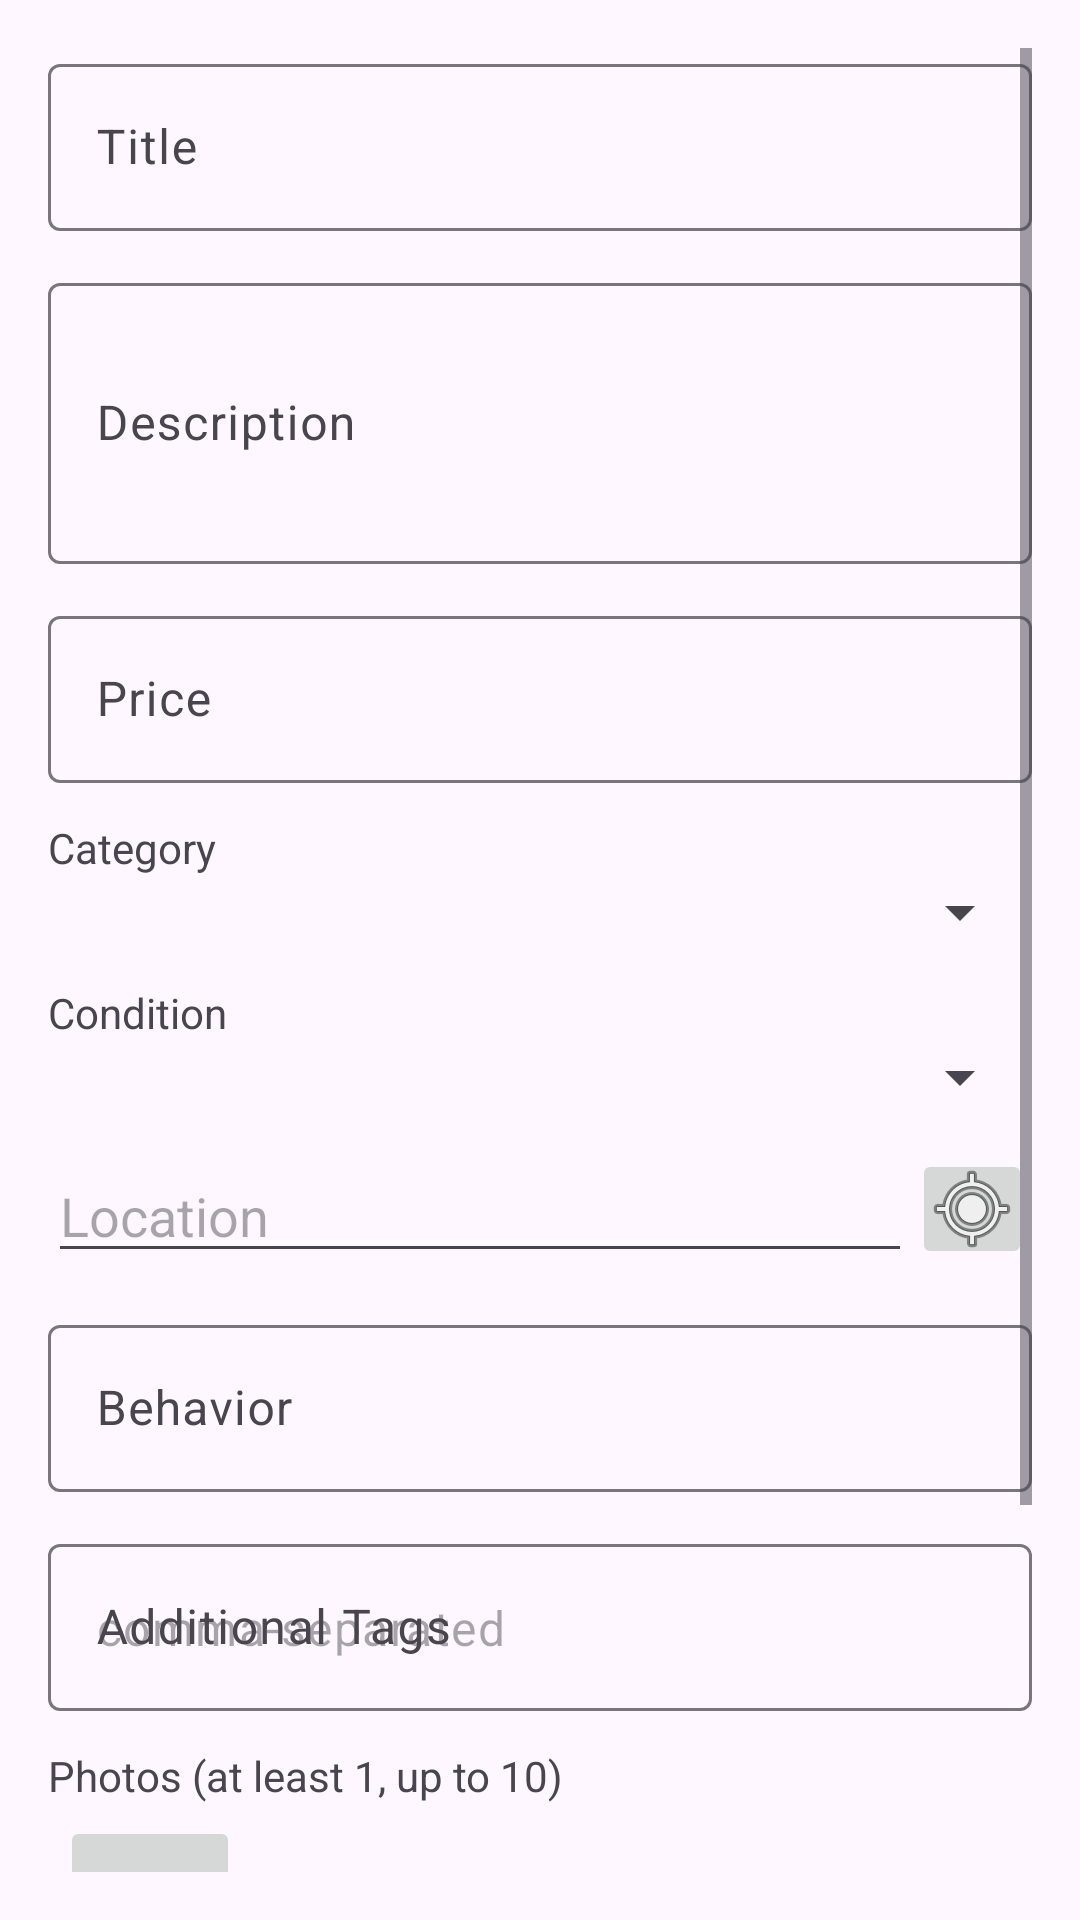

Named icons in this screenshot (1080 × 1920) and their centers, point (x, y):
GPS: point (978, 1209)
